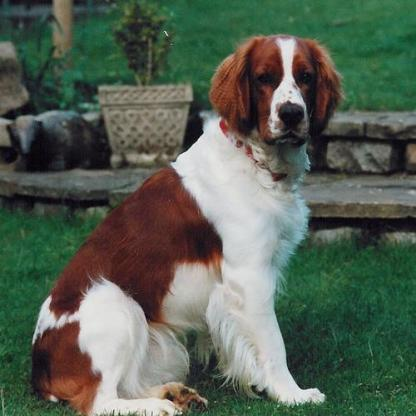Welsh_springer_spaniel: (29, 31, 344, 413)
